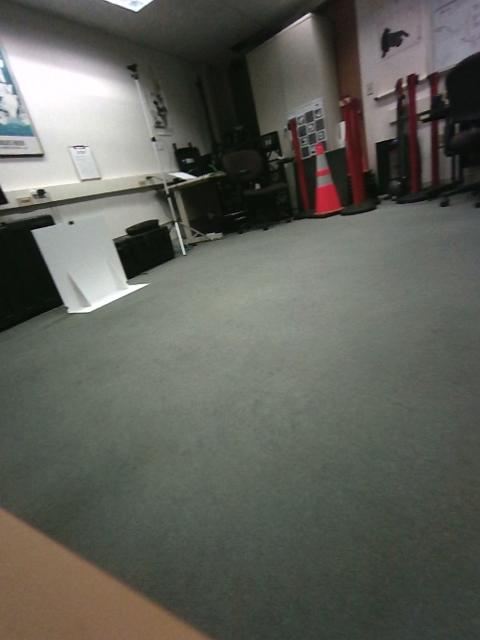block: (160, 338, 226, 386)
